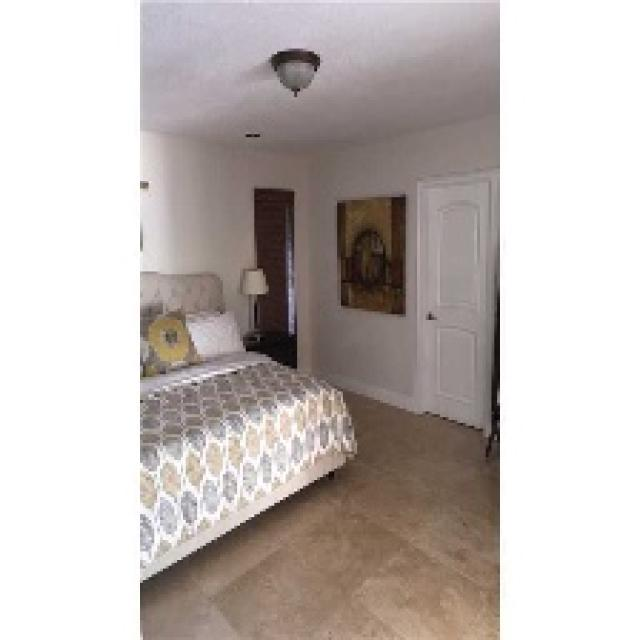Bed: (137, 268, 357, 583)
